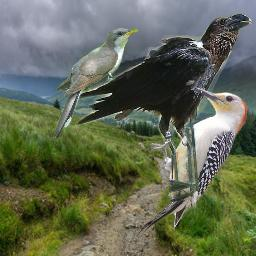Crow: (67, 13, 253, 157)
Cuckoo: (53, 28, 138, 138)
Woodpecker: (137, 84, 250, 236)
